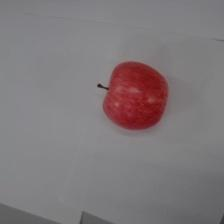red: (100, 59, 169, 131)
